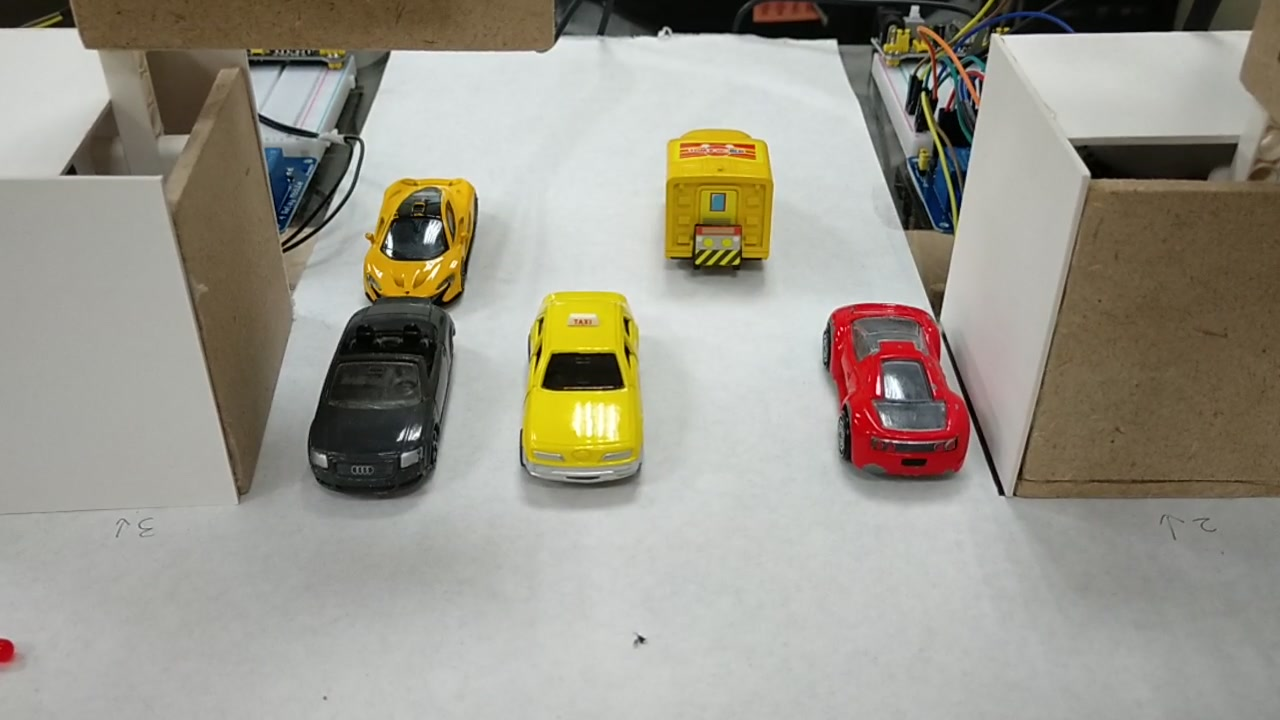car: (514, 289, 649, 495), (305, 298, 450, 486), (825, 298, 972, 481), (364, 167, 478, 297)
